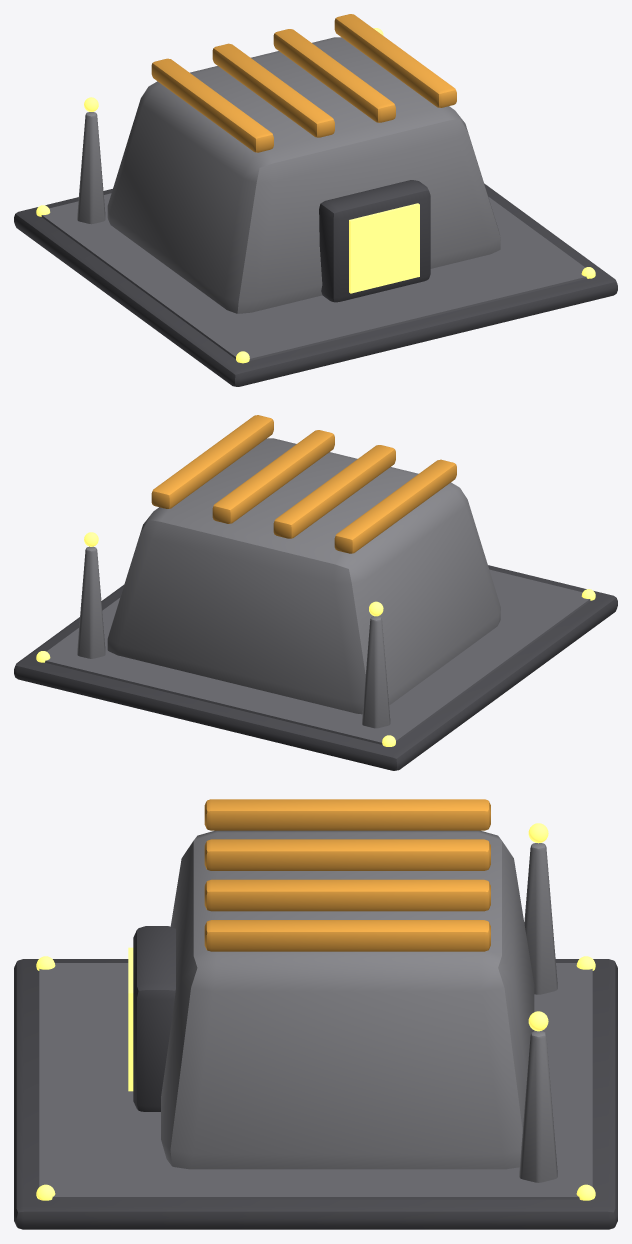
File: barracks_rob.glb
3 views of the same model, one above another, from view 1: azimuth 30°, elevation 25°; view 2: azimuth 150°, elevation 25°; view 3: azimuth 270°, elevation 25° (orthographic). The views are drawn at different scales.
Visible parts, largest first — view 1: barracks_rob; view 2: barracks_rob; view 3: barracks_rob.
Boxes of the visible parts, x1,y1,x2,y2 form: barracks_rob: [14, 14, 617, 386]; barracks_rob: [14, 415, 617, 770]; barracks_rob: [14, 799, 617, 1229].
Size of the model in its own units: 1.9 by 0.84 by 1.9.
